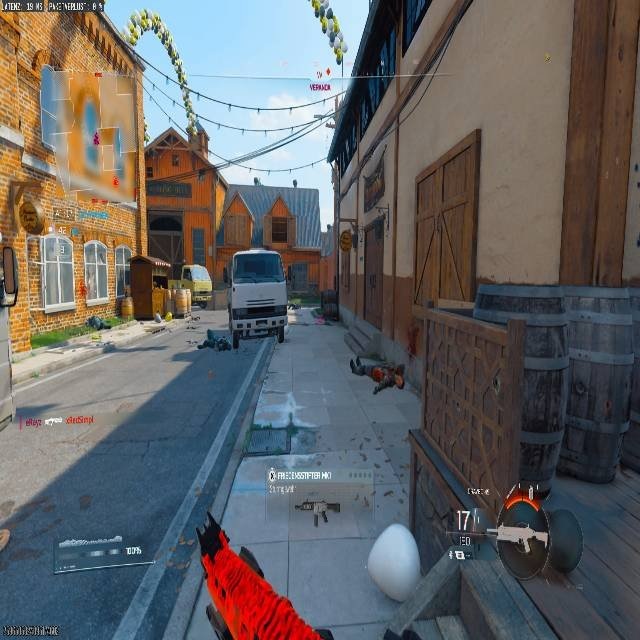head: (349, 355, 367, 376)
